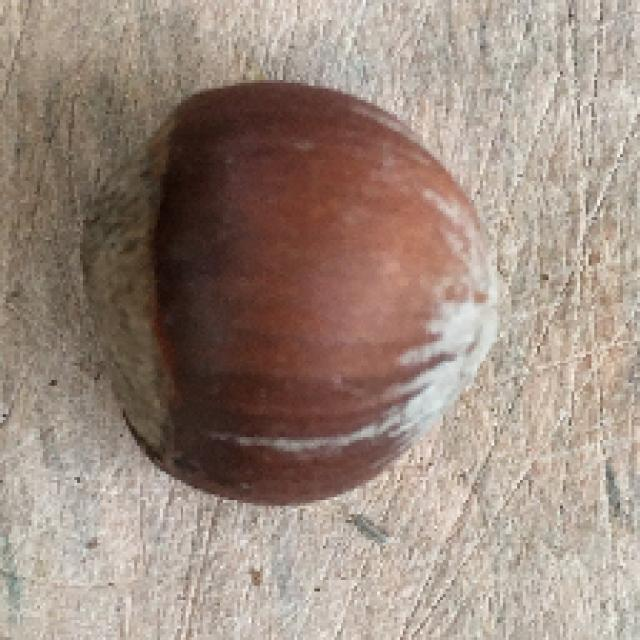qualityHazelnut: (79, 90, 504, 505)
